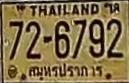2: (106, 18, 122, 57), (26, 20, 40, 58)
6: (54, 20, 69, 57)
7: (72, 19, 86, 58), (8, 20, 22, 59)
9: (88, 18, 104, 57)
SPK: (27, 62, 104, 78)
